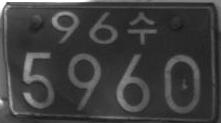0: (163, 53, 201, 114)
5: (20, 51, 55, 110)
6: (115, 53, 150, 113), (87, 11, 118, 45)
9: (67, 51, 101, 110), (51, 10, 79, 44)
수: (127, 11, 157, 45)
